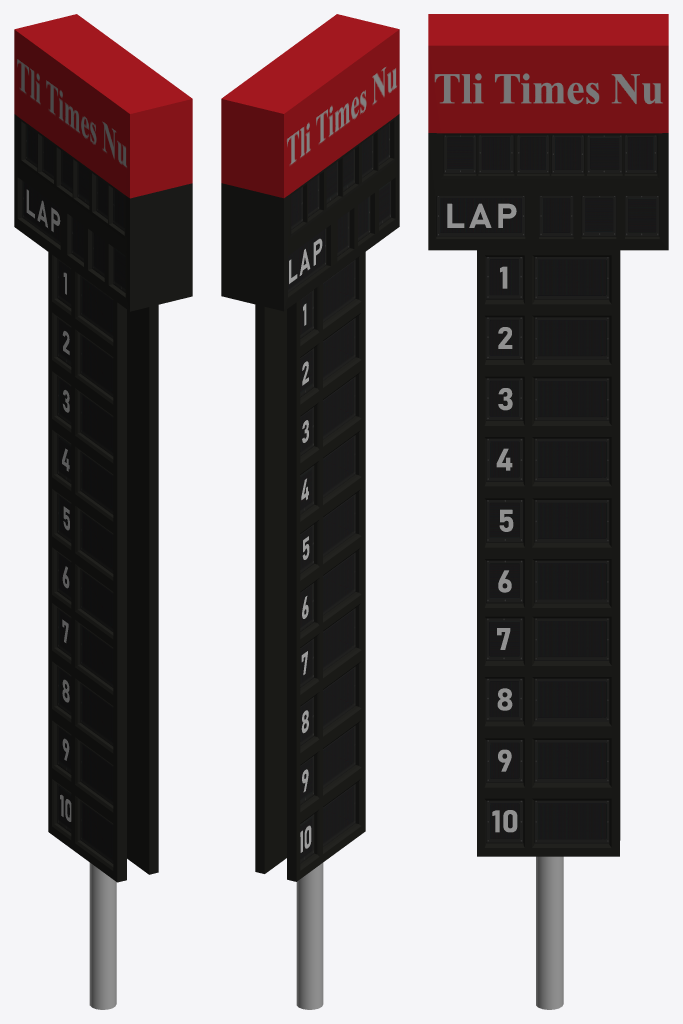
Rendered from T1_ScoreBoard.fbx.
The picture shows the model from 3 angles, left to right: view 1: azimuth 30°, elevation 25°; view 2: azimuth 150°, elevation 25°; view 3: azimuth 270°, elevation 25°; orthographic projection. The views are drawn at different scales.
Visible parts, largest first — view 1: T1_ScoreBoard, T1_Score; view 2: T1_ScoreBoard, T1_Score; view 3: T1_ScoreBoard, T1_Score.
Part boxes in pixels (bbox=[...]): T1_ScoreBoard: bbox=[14, 14, 192, 1009]; T1_Score: bbox=[26, 189, 71, 821]; T1_ScoreBoard: bbox=[221, 14, 399, 1009]; T1_Score: bbox=[289, 238, 322, 852]; T1_ScoreBoard: bbox=[428, 14, 668, 1009]; T1_Score: bbox=[447, 203, 517, 832].
Bounding box in the file's own units: 1.06 × 15.02 × 3.36.
